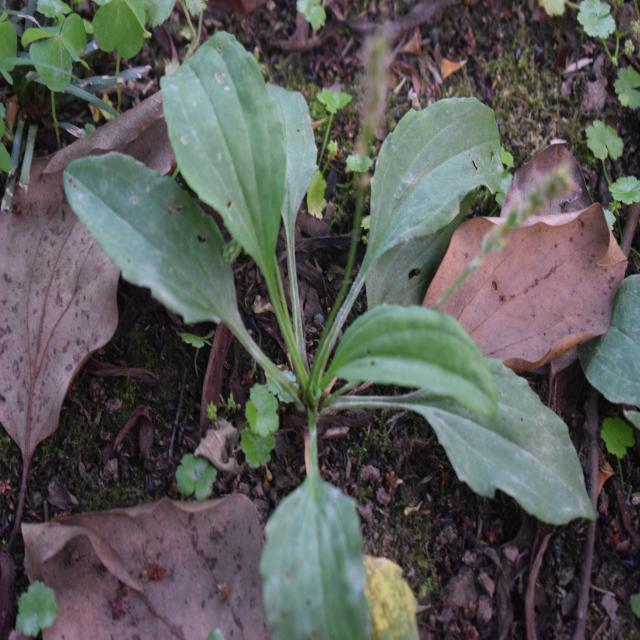plantain: (108, 39, 556, 606)
